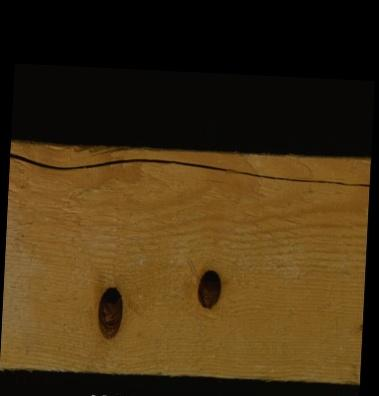split: (9, 158, 369, 180)
